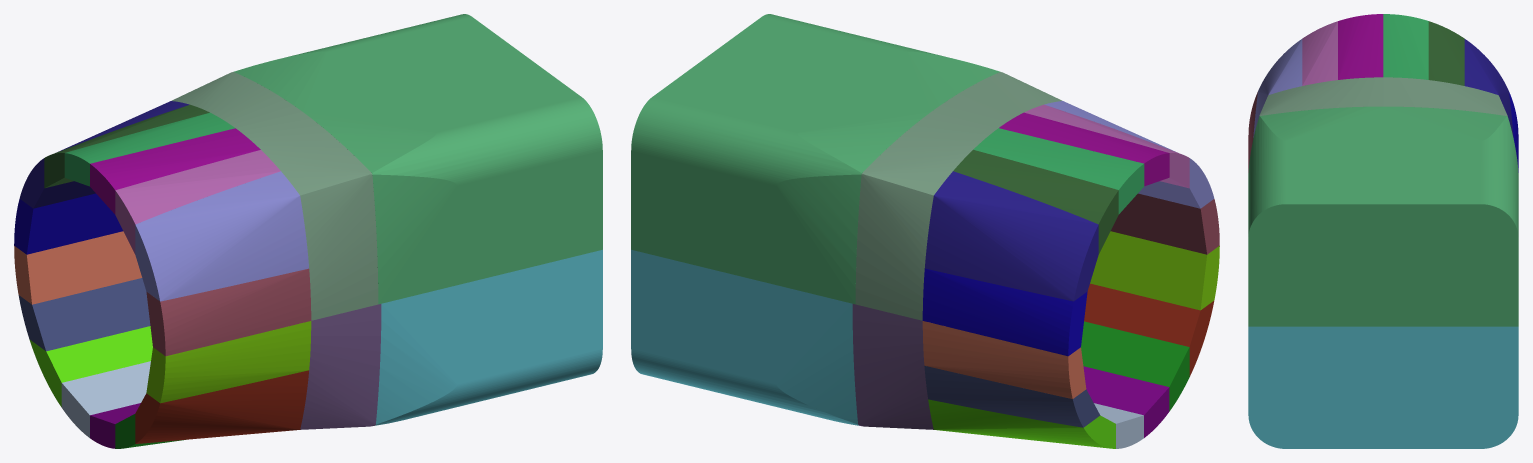
File: 8_canonical.obj
3 views of the same model, side by side, from view 1: azimuth 30°, elevation 25°; view 2: azimuth 150°, elevation 25°; view 3: azimuth 270°, elevation 25° (orthographic). The views are drawn at different scales.
Visible parts, largest first — view 1: geometry_3, geometry_2, geometry_0, geometry_12, geometry_13, geometry_1, geometry_15, geometry_4, geometry_16, geometry_9, geometry_7, geometry_14 (+8 smaller); view 2: geometry_3, geometry_2, geometry_0, geometry_18, geometry_5, geometry_1, geometry_9, geometry_4, geometry_19, geometry_16, geometry_10, geometry_15 (+8 smaller); view 3: geometry_3, geometry_2, geometry_0, geometry_10, geometry_14, geometry_19, geometry_7, geometry_12, geometry_18, geometry_13, geometry_5.
Boxes of the visible parts, x1,y1,x2,y2 form: geometry_3: [233, 14, 602, 304]; geometry_2: [375, 249, 602, 425]; geometry_0: [171, 72, 378, 320]; geometry_12: [135, 171, 309, 301]; geometry_13: [146, 268, 311, 356]; geometry_1: [300, 304, 381, 429]; geometry_15: [135, 370, 308, 443]; geometry_4: [146, 321, 311, 403]; geometry_16: [18, 278, 150, 351]; geometry_9: [14, 231, 142, 304]; geometry_7: [115, 150, 280, 254]; geometry_14: [90, 128, 260, 214]; geometry_3: [631, 14, 1000, 304]; geometry_2: [631, 249, 858, 425]; geometry_0: [855, 72, 1062, 320]; geometry_18: [925, 171, 1098, 301]; geometry_5: [922, 268, 1087, 356]; geometry_1: [852, 304, 933, 429]; geometry_9: [922, 321, 1086, 398]; geometry_4: [1090, 231, 1219, 310]; geometry_19: [953, 149, 1118, 254]; geometry_16: [924, 365, 1100, 427]; geometry_10: [973, 128, 1144, 214]; geometry_15: [1084, 283, 1214, 376]; geometry_3: [1248, 106, 1518, 326]; geometry_2: [1248, 326, 1518, 448]; geometry_0: [1259, 77, 1507, 116]; geometry_10: [1383, 14, 1428, 79]; geometry_14: [1338, 14, 1383, 79]; geometry_19: [1428, 21, 1464, 85]; geometry_7: [1302, 21, 1337, 85]; geometry_12: [1253, 39, 1302, 137]; geometry_18: [1464, 39, 1513, 137]; geometry_13: [1248, 92, 1257, 172]; geometry_5: [1509, 92, 1518, 172].
Bounding box in the file's own units: 0.03 × 0.018 × 0.018.
